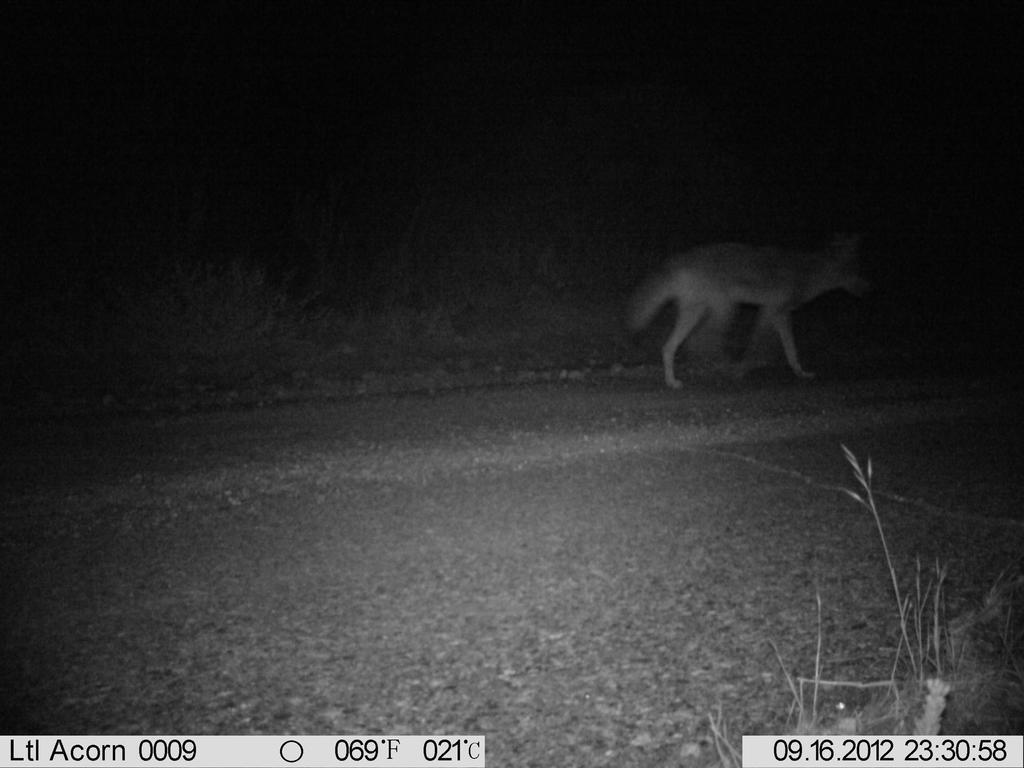coyote: (613, 227, 879, 399)
